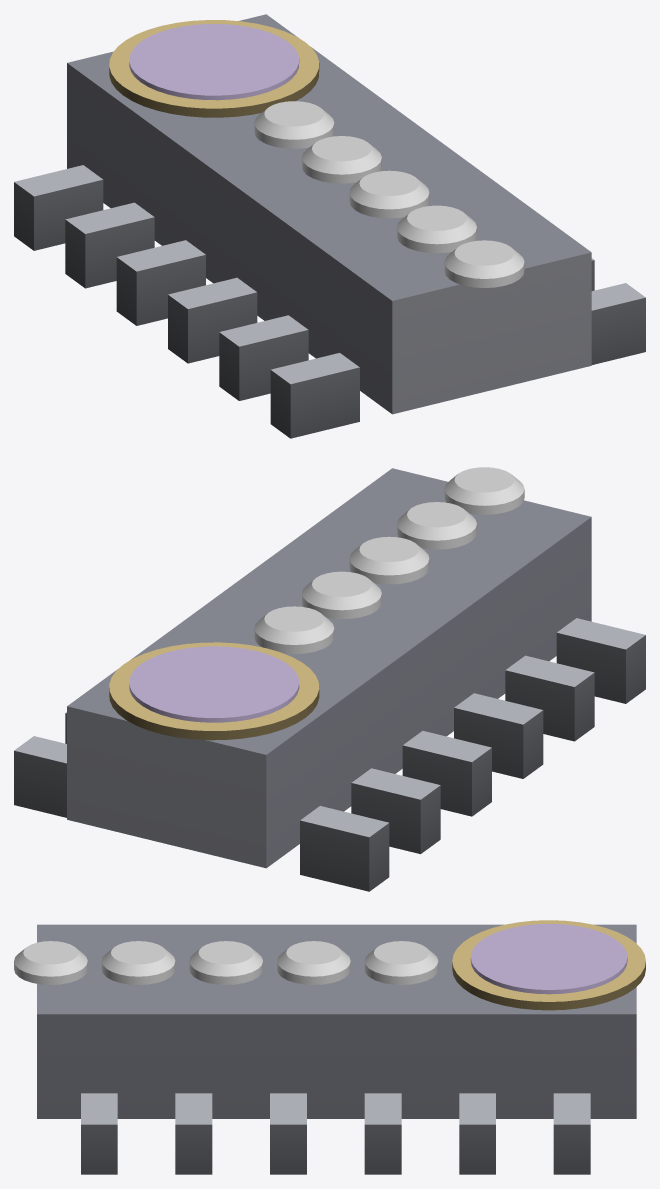
The model's file is pin_error_memory.glb.
3 renders of one model, top to bottom at view 1: azimuth 30°, elevation 25°; view 2: azimuth 150°, elevation 25°; view 3: azimuth 270°, elevation 25°, orthographic. The views are drawn at different scales.
Parts seen in each view (by area): view 1: Korpus, Glas, Lampe4, Lampe0, Lampe2, Lampe3, Lampe1; view 2: Korpus, Glas, Lampe0, Lampe2, Lampe4, Lampe3, Lampe1; view 3: Korpus, Glas, Lampe0, Lampe3, Lampe1, Lampe2, Lampe4.
Part boxes in pixels (<box>): Korpus: <box>14,14,645,438</box>; Glas: <box>129,24,299,100</box>; Lampe4: <box>444,240,524,287</box>; Lampe0: <box>254,101,334,148</box>; Lampe2: <box>349,170,429,218</box>; Lampe3: <box>397,205,476,253</box>; Lampe1: <box>302,136,381,183</box>; Korpus: <box>14,468,645,891</box>; Glas: <box>129,646,299,722</box>; Lampe0: <box>254,606,334,653</box>; Lampe2: <box>349,536,429,584</box>; Lampe4: <box>444,467,524,514</box>; Lampe3: <box>397,502,476,549</box>; Lampe1: <box>302,571,381,619</box>; Korpus: <box>37,920,645,1174</box>; Glas: <box>470,923,627,994</box>; Lampe0: <box>364,941,438,984</box>; Lampe3: <box>101,941,175,984</box>; Lampe1: <box>277,941,350,984</box>; Lampe2: <box>189,941,262,984</box>; Lampe4: <box>14,941,87,984</box>.
Size of the model in its own units: 0.85 by 0.3524 by 1.42.
